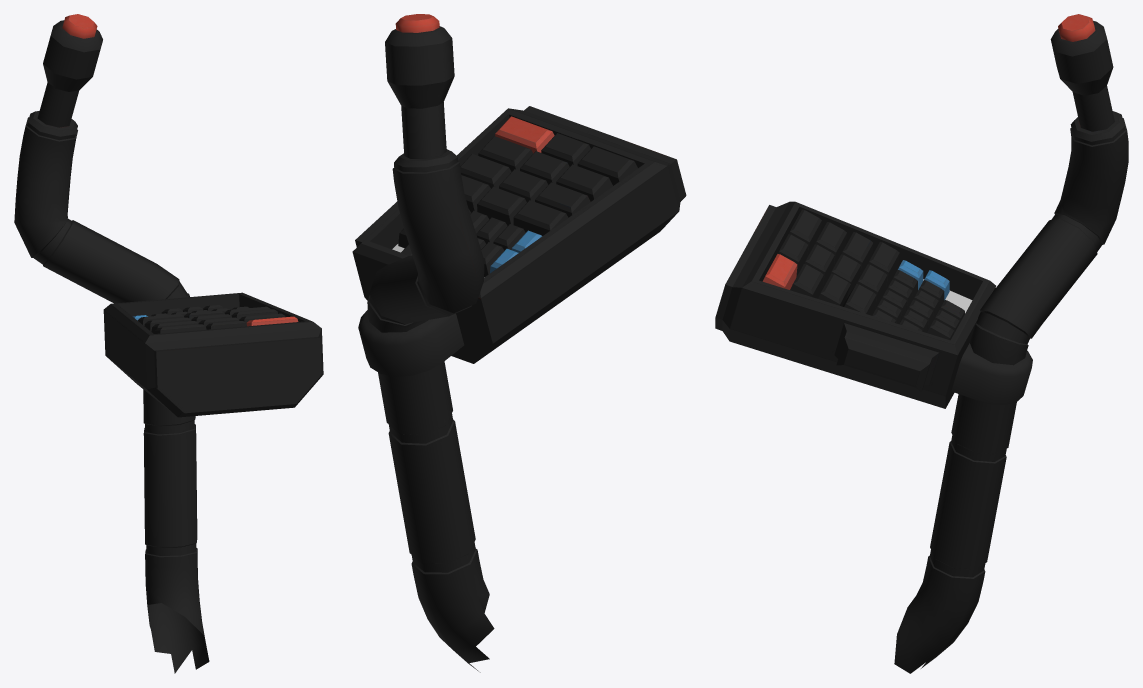
The model's file is joystick.fbx.
3 renders of one model, left to right at view 1: azimuth 30°, elevation 25°; view 2: azimuth 150°, elevation 25°; view 3: azimuth 270°, elevation 25°, orthographic. The views are drawn at different scales.
Parts seen in each view (by area): view 1: Stick; view 2: Stick; view 3: Stick.
Part boxes in pixels (left/top/right/bottom): Stick: left=14, top=14, right=323, bottom=673; Stick: left=352, top=14, right=686, bottom=672; Stick: left=715, top=14, right=1128, bottom=673.
Size of the model in its own units: 14.81 by 42.69 by 25.
